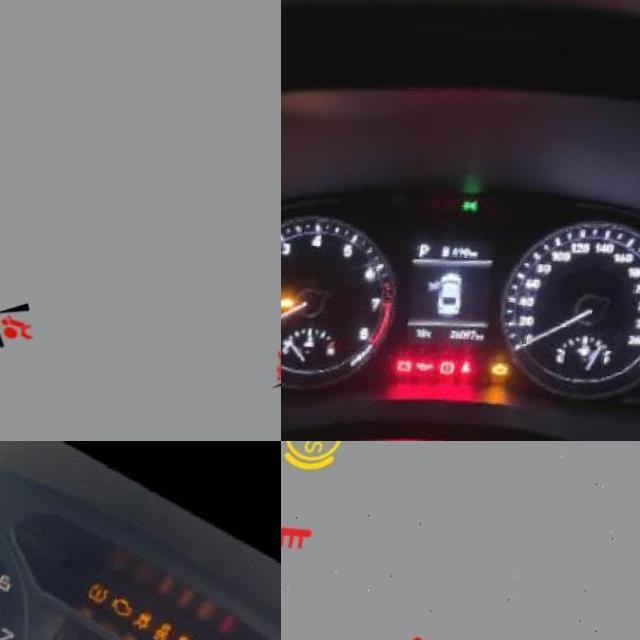Seat Belt: (481, 348, 494, 363)
